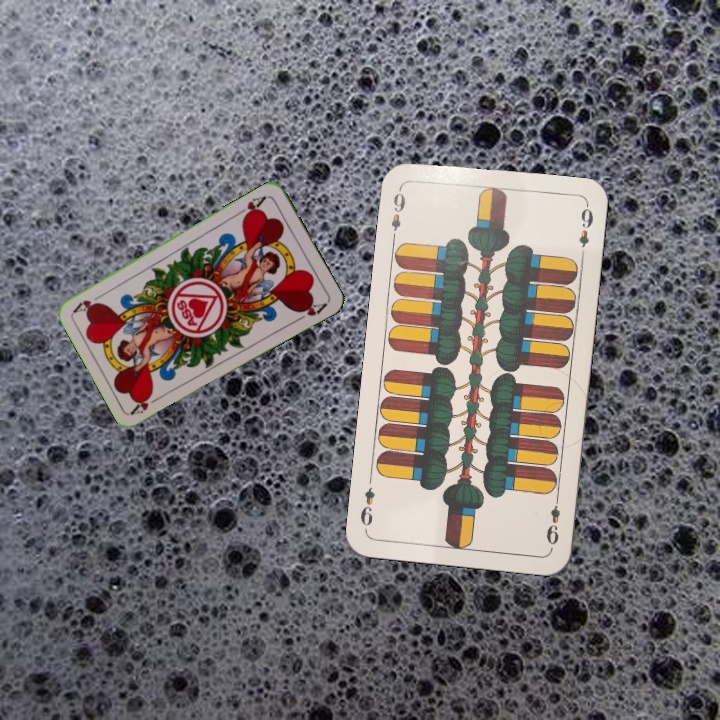E9: (386, 184, 408, 243), (542, 491, 563, 547)
HA: (233, 192, 270, 222), (128, 389, 165, 417)
